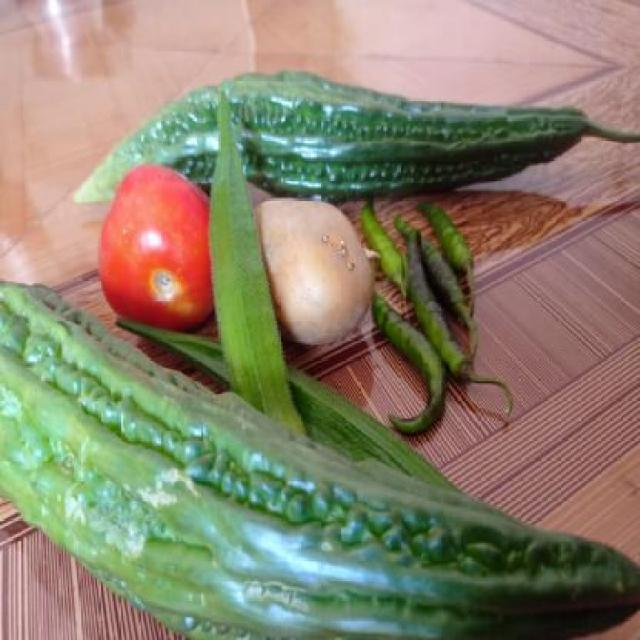Bitter melon: (1, 395, 640, 639), (58, 66, 637, 180)
Green Chili: (369, 200, 534, 438)
Lady finger: (208, 104, 282, 420)
Potato: (258, 200, 374, 346)
Tomato: (96, 162, 216, 326)
